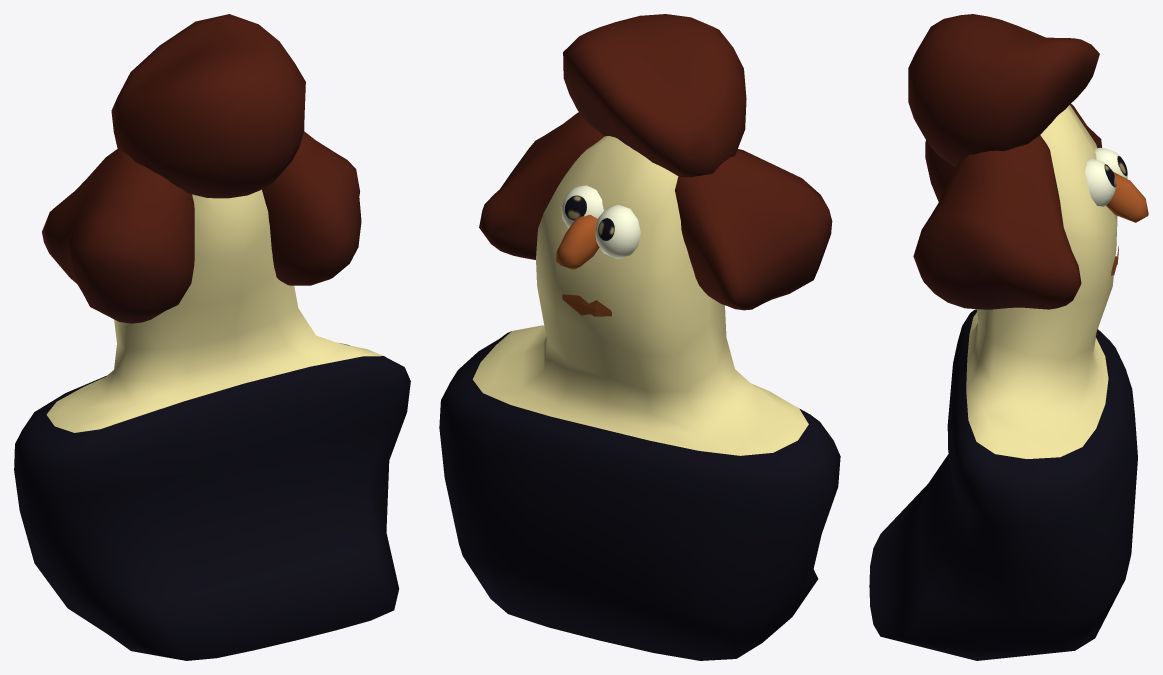
The model's file is giant_4.glb.
3 views of the same model, side by side, from view 1: azimuth 30°, elevation 25°; view 2: azimuth 150°, elevation 25°; view 3: azimuth 270°, elevation 25° (orthographic). The views are drawn at different scales.
Parts seen in each view (by area): view 1: Sphere.005; view 2: Sphere.005; view 3: Sphere.005.
Part boxes in pixels (x1=…): Sphere.005: x1=14, y1=14, x2=410, y2=660; Sphere.005: x1=439, y1=14, x2=840, y2=660; Sphere.005: x1=869, y1=14, x2=1148, y2=660.
Size of the model in its own units: 4.49 by 6.61 by 2.87.
1 material, 1 textured.
